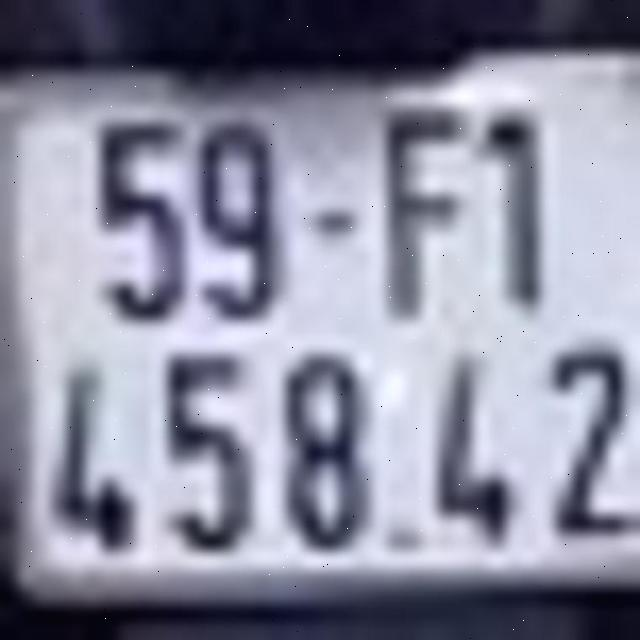1: (484, 101, 550, 314)
2: (546, 338, 636, 538)
4: (431, 346, 517, 551), (51, 361, 138, 557)
5: (94, 114, 190, 324), (162, 347, 257, 555)
8: (281, 346, 369, 553)
9: (196, 115, 279, 324)
F: (380, 101, 471, 320)
